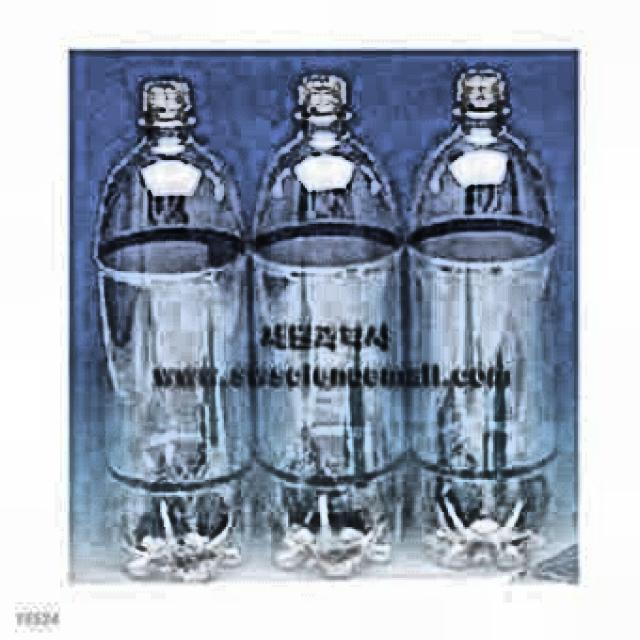Bottles: (381, 61, 561, 582), (80, 70, 260, 585)
